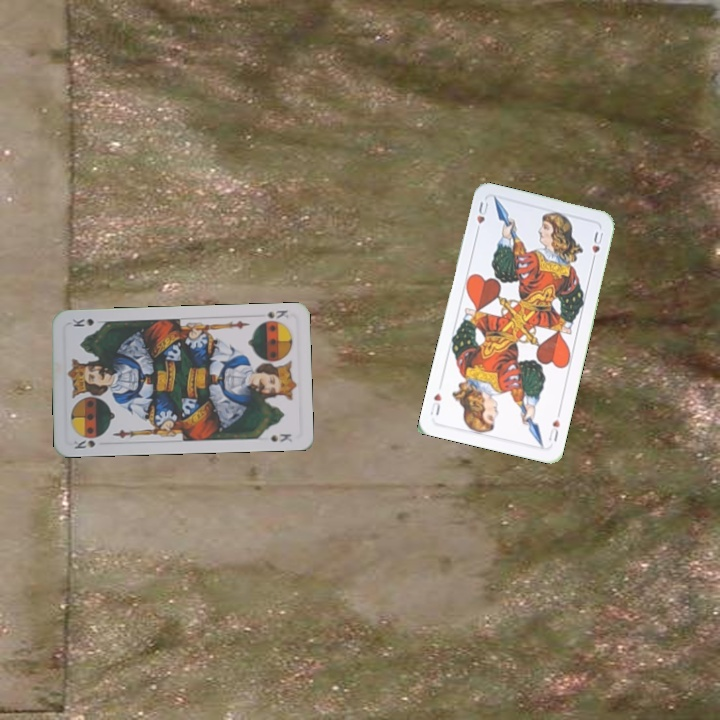HU: (472, 198, 491, 237), (544, 415, 562, 444)
SK: (68, 432, 106, 451), (256, 306, 290, 326)
